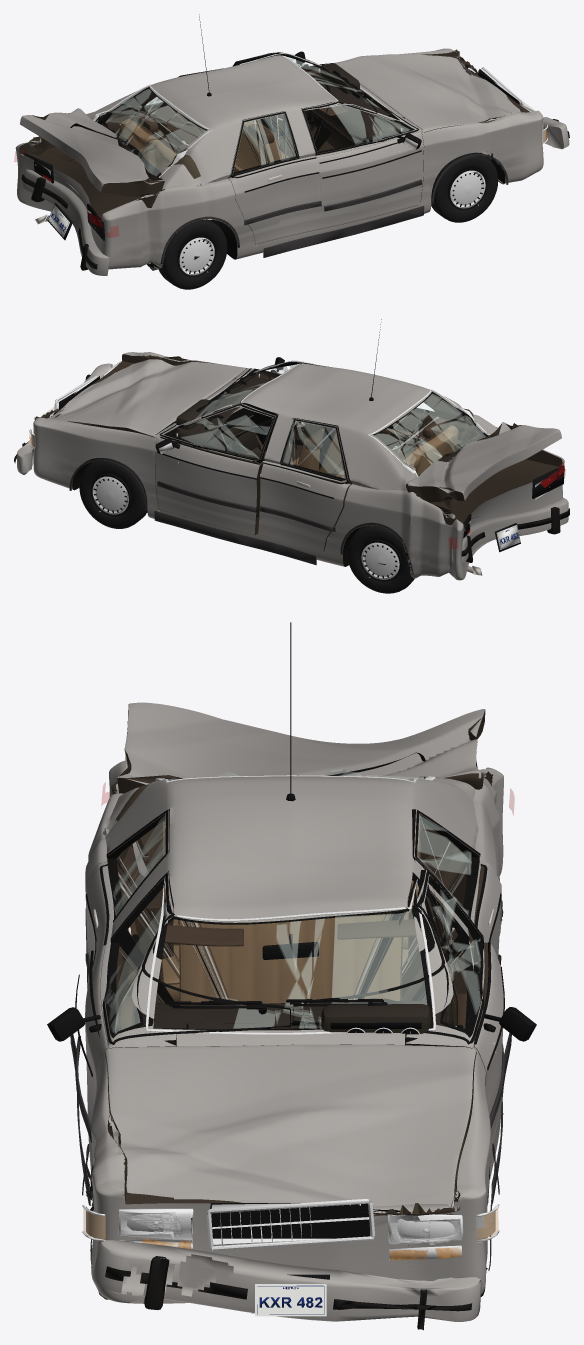
The model's file is sedan87_rear_d1_lod1.glb.
3 views of the same model, one above another, from view 1: azimuth 30°, elevation 25°; view 2: azimuth 150°, elevation 25°; view 3: azimuth 270°, elevation 25° (orthographic). The views are drawn at different scales.
Parts seen in each view (by area): view 1: Body, Hood, Door_FR, Interior, Trunk, Door_RR, Glass, Wheel_RR_mesh, Wheel_FR_mesh, Bumper_R, Trim, Ends (+6 smaller); view 2: Body, Door_FL, Hood, Interior, Door_RL, Trunk, Glass, Wheel_FL_mesh, Wheel_RL_mesh, Trim, Bumper_R, Ends (+9 smaller); view 3: Body, Hood, Interior, Trunk, Ends, Bumper_F, Glass, Door_FL, Door_FR, Trim_FR, Door_RL, Trim_FL (+10 smaller).
Boxes of the visible parts, bbox=[...] form: Body: bbox=[15, 48, 543, 269]; Hood: bbox=[333, 54, 520, 132]; Door_FR: bbox=[301, 102, 423, 228]; Interior: bbox=[121, 63, 404, 190]; Trunk: bbox=[20, 108, 164, 196]; Door_RR: bbox=[227, 111, 322, 244]; Glass: bbox=[93, 53, 403, 177]; Wheel_RR_mesh: bbox=[158, 219, 227, 289]; Wheel_FR_mesh: bbox=[431, 152, 498, 222]; Bumper_R: bbox=[21, 169, 109, 275]; Trim: bbox=[160, 14, 508, 264]; Ends: bbox=[23, 67, 547, 240]; Body: bbox=[33, 352, 564, 580]; Door_FL: bbox=[154, 404, 277, 535]; Hood: bbox=[47, 359, 248, 437]; Interior: bbox=[174, 376, 458, 478]; Door_RL: bbox=[258, 418, 351, 551]; Trunk: bbox=[406, 422, 561, 502]; Glass: bbox=[175, 360, 489, 477]; Wheel_FL_mesh: bbox=[79, 458, 147, 528]; Wheel_RL_mesh: bbox=[347, 525, 414, 593]; Trim: bbox=[69, 319, 413, 574]; Bumper_R: bbox=[452, 497, 569, 562]; Ends: bbox=[29, 361, 564, 552]; Body: bbox=[85, 760, 503, 1303]; Hood: bbox=[105, 1044, 476, 1216]; Interior: bbox=[134, 820, 447, 1045]; Trunk: bbox=[117, 702, 485, 793]; Ends: bbox=[82, 1199, 499, 1316]; Bumper_F: bbox=[93, 1240, 481, 1330]; Glass: bbox=[145, 769, 435, 1034]; Door_FL: bbox=[405, 869, 503, 1179]; Door_FR: bbox=[85, 871, 176, 1169]; Trim_FR: bbox=[47, 872, 290, 1142]; Door_RL: bbox=[412, 809, 501, 1028]; Trim_FL: bbox=[292, 871, 536, 1129].
Bounding box in the file's own units: 4.69 × 2.16 × 2.09.
33 materials, 5 textured.
